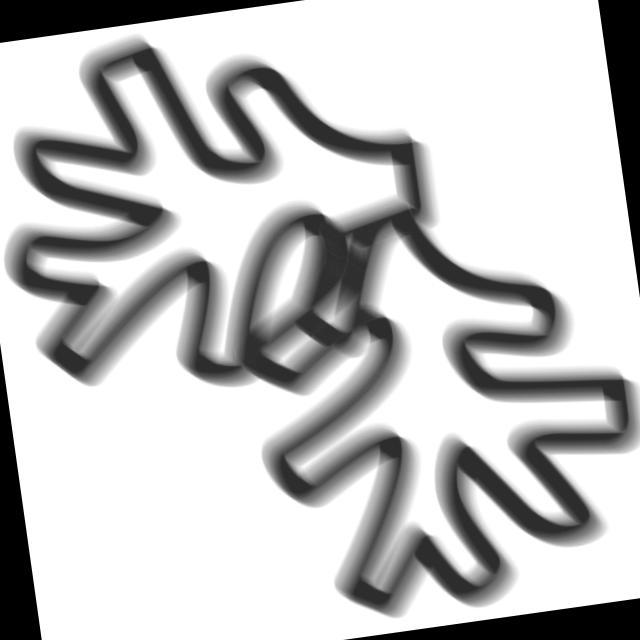coral: (223, 174, 640, 640), (1, 1, 457, 421)
